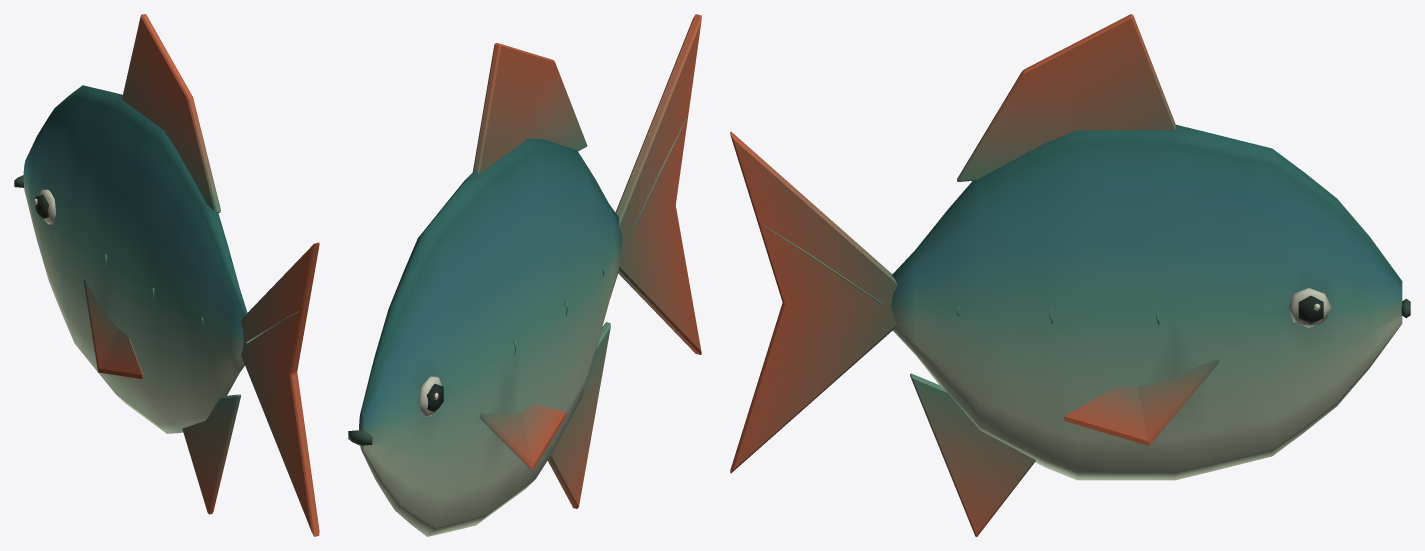
Rendered from fish_bitterling.glb.
The picture shows the model from 3 angles, left to right: view 1: azimuth 30°, elevation 25°; view 2: azimuth 150°, elevation 25°; view 3: azimuth 270°, elevation 25°; orthographic projection. The views are drawn at different scales.
Bounding box in the file's own units: 0.0104 × 0.0591 × 0.0699.
